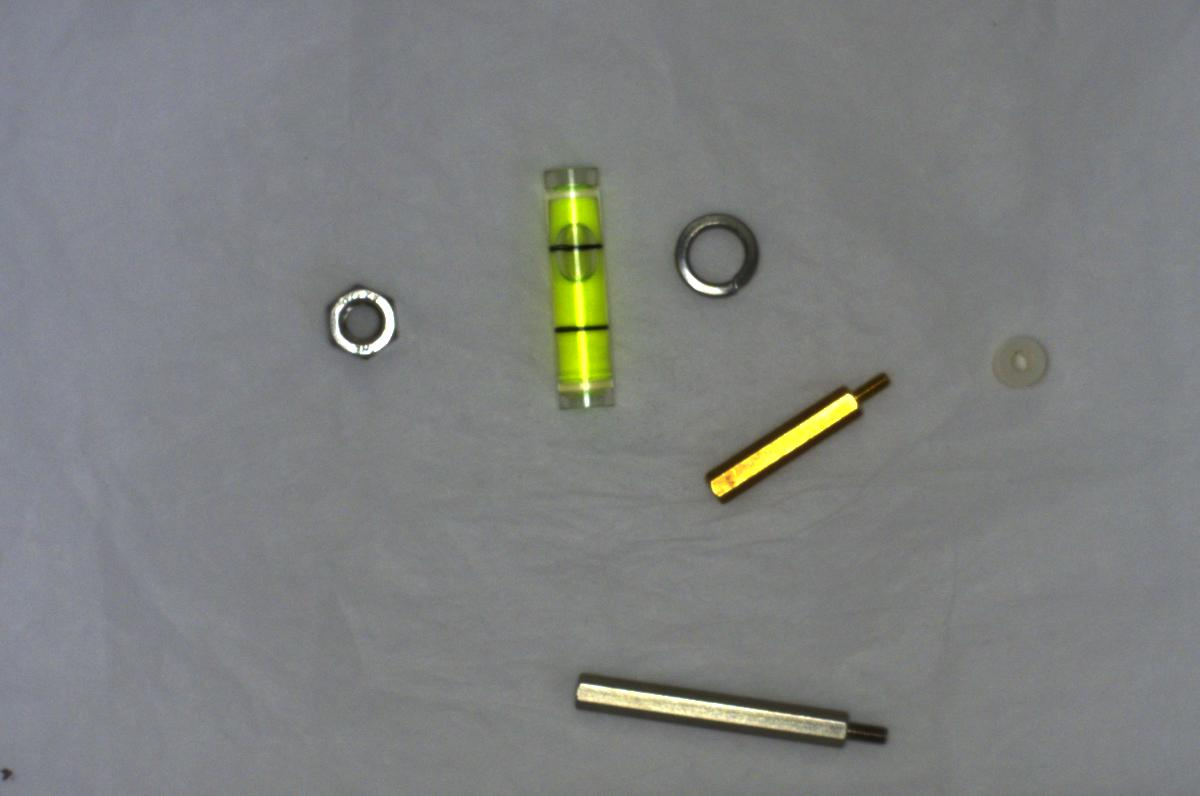Hexagon nut: (316, 280, 403, 363)
Hexagon pillar: (697, 363, 892, 501)
Hexagonal steel column: (564, 659, 900, 754)
Horizontal bubble: (529, 156, 635, 413)
Plastic cushion pillar: (989, 327, 1057, 400)
Spring washer: (661, 195, 766, 310)
